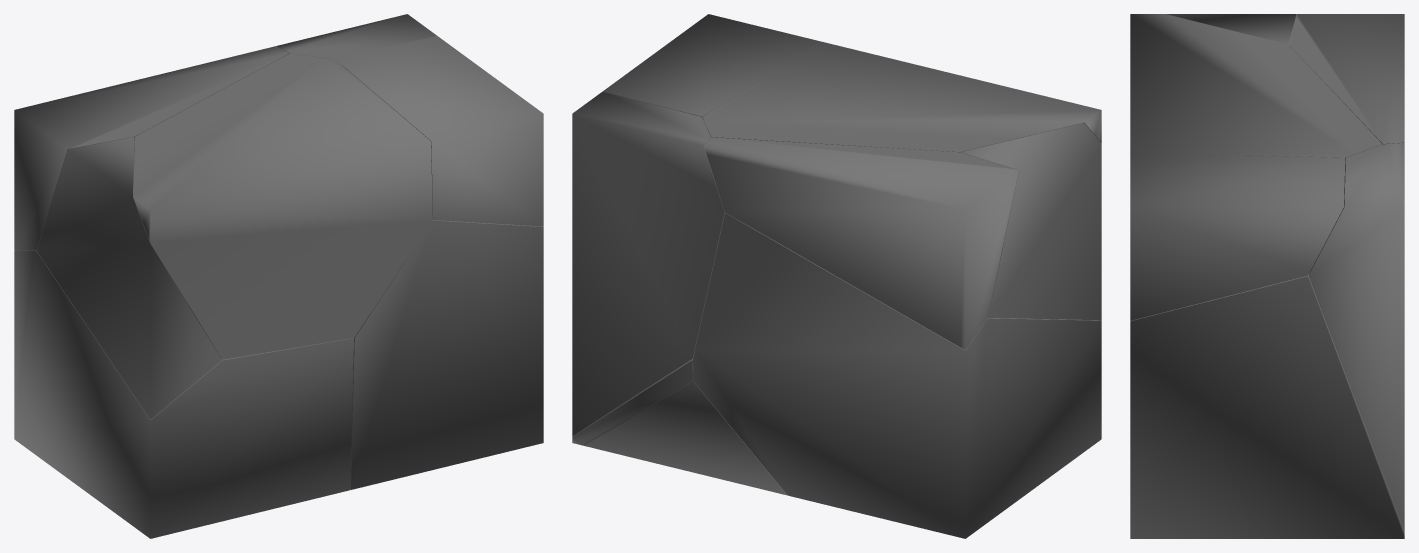
File: BuildingDestroyed.fbx
The picture shows the model from 3 angles, left to right: view 1: azimuth 30°, elevation 25°; view 2: azimuth 150°, elevation 25°; view 3: azimuth 270°, elevation 25°; orthographic projection.
Parts seen in each view (by area): view 1: Cube_cell.006, Cube_cell.005, Cube_cell.003, Cube_cell.007, Cube_cell.002, Cube_cell.004, Cube_cell; view 2: Cube_cell.005, Cube_cell.004, Cube_cell, Cube_cell.006, Cube_cell.007, Cube_cell.002, Cube_cell.001, Cube_cell.003; view 3: Cube_cell.003, Cube_cell.002, Cube_cell.006, Cube_cell, Cube_cell.004, Cube_cell.007.
Part boxes in pixels (x1=…): Cube_cell.006: x1=133, y1=53, x2=432, y2=359; Cube_cell.005: x1=14, y1=250, x2=353, y2=538; Cube_cell.003: x1=350, y1=220, x2=543, y2=489; Cube_cell.007: x1=36, y1=137, x2=221, y2=419; Cube_cell.002: x1=336, y1=36, x2=543, y2=226; Cube_cell.004: x1=14, y1=46, x2=289, y2=250; Cube_cell: x1=276, y1=14, x2=436, y2=59; Cube_cell.005: x1=693, y1=212, x2=1101, y2=538; Cube_cell.004: x1=704, y1=137, x2=1018, y2=349; Cube_cell: x1=572, y1=92, x2=724, y2=435; Cube_cell.006: x1=702, y1=41, x2=1101, y2=152; Cube_cell.007: x1=961, y1=123, x2=1101, y2=320; Cube_cell.002: x1=602, y1=14, x2=820, y2=119; Cube_cell.001: x1=584, y1=381, x2=787, y2=495; Cube_cell.003: x1=572, y1=212, x2=724, y2=445; Cube_cell.003: x1=1130, y1=274, x2=1404, y2=538; Cube_cell.002: x1=1130, y1=152, x2=1345, y2=320; Cube_cell.006: x1=1130, y1=14, x2=1382, y2=158; Cube_cell: x1=1308, y1=143, x2=1404, y2=531; Cube_cell.004: x1=1289, y1=14, x2=1404, y2=144; Cube_cell.007: x1=1166, y1=14, x2=1296, y2=44.
Size of the model in its own units: 60 by 48 by 36.
